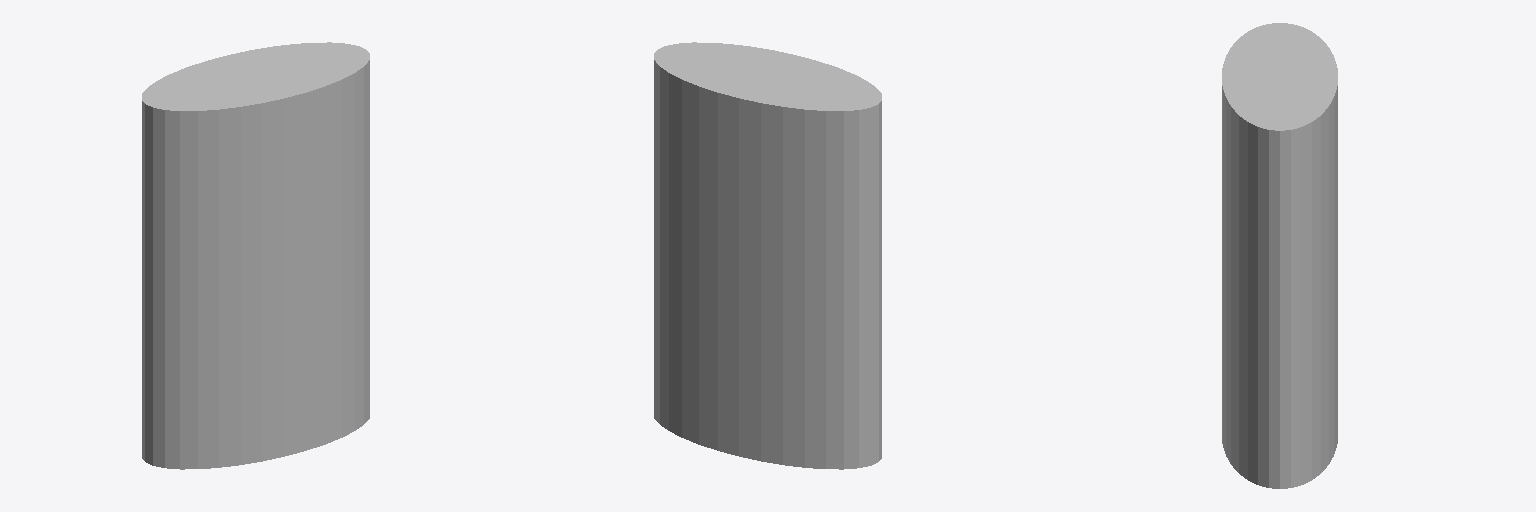
File: ScaledCylinder.obj
The picture shows the model from 3 angles: view 1: azimuth 30°, elevation 25°; view 2: azimuth 150°, elevation 25°; view 3: azimuth 270°, elevation 25°; orthographic projection.
Parts seen in each view (by area): view 1: Cylinder; view 2: Cylinder; view 3: Cylinder.
Boxes of the visible parts, <box> form: Cylinder: <box>142,42,369,469</box>; Cylinder: <box>654,42,881,469</box>; Cylinder: <box>1222,23,1337,488</box>.
Size of the model in its own units: 4.38 by 6.76 by 2.